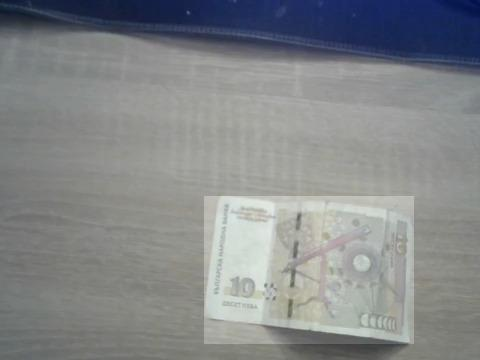10leva: (204, 196, 414, 344)
